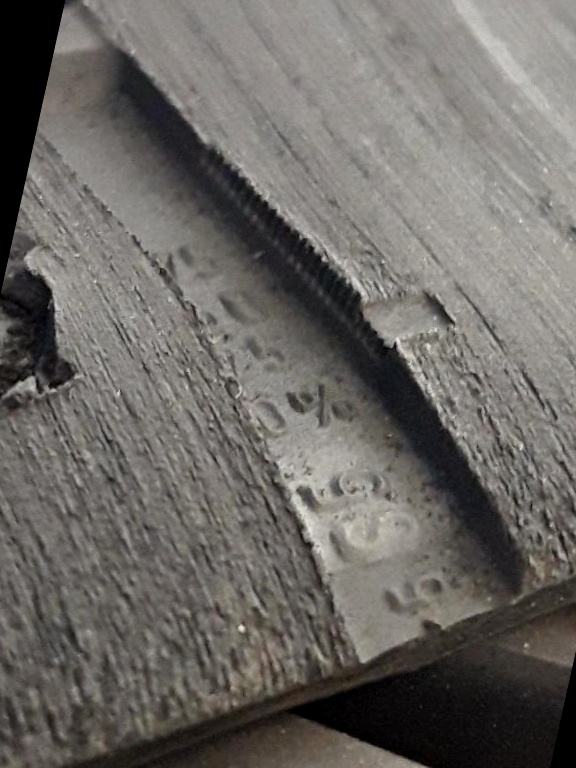temoin:0: (315, 252, 482, 378)
